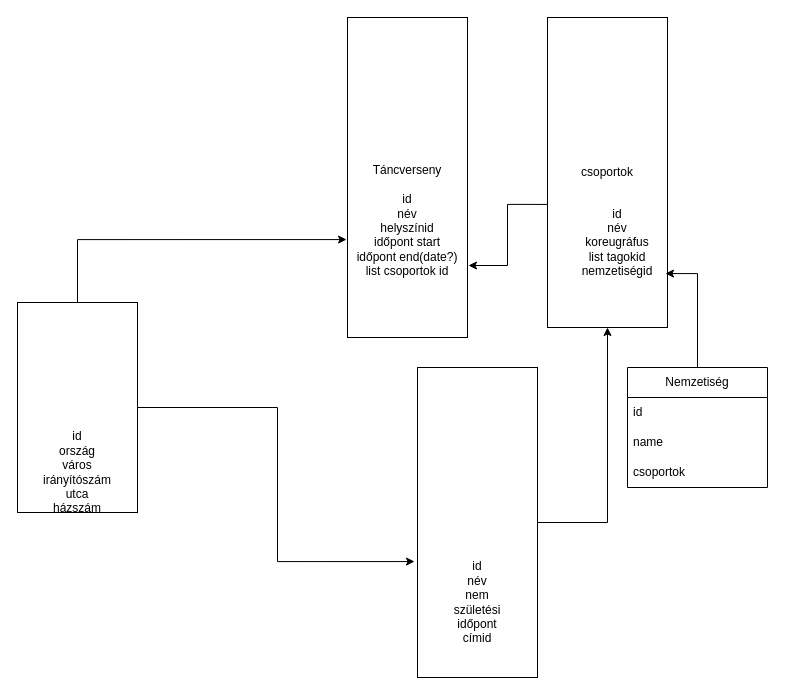
Image size: 785x695. Some labels were removed from this diagram. The shapes that lost their labels are listed below. From the top down, each one's box as (x1, y1, x2, y2) in pixels, then its label:
(16, 302, 138, 512): cím
(416, 366, 538, 678): tag
